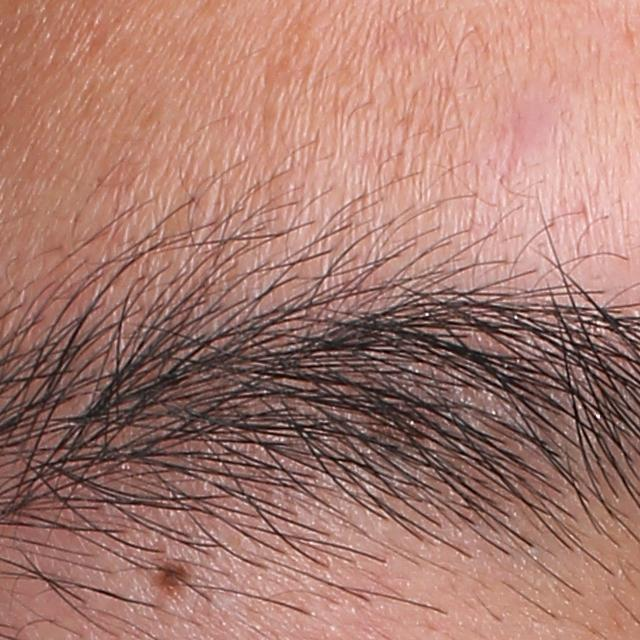nevus: (147, 555, 189, 600)
